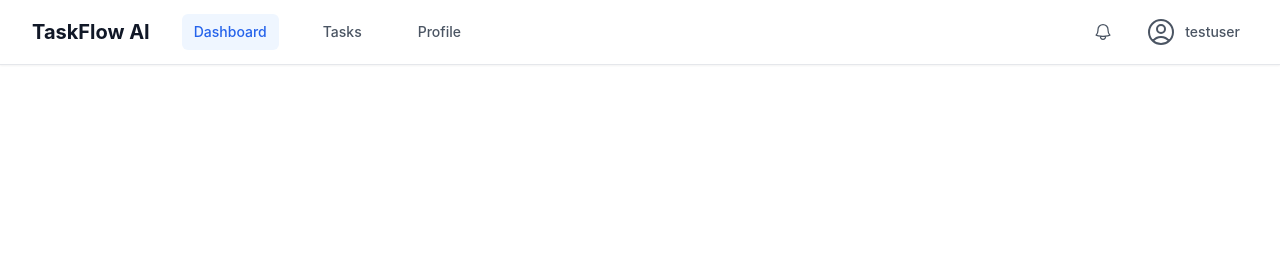
Test: Header Component › shows profile dropdown when user icon is clicked
What coordinates should you click on to do the following:
click the button "testuser"
I would click on:
 (1193, 32)
Its box is [1137,8,1248,56].
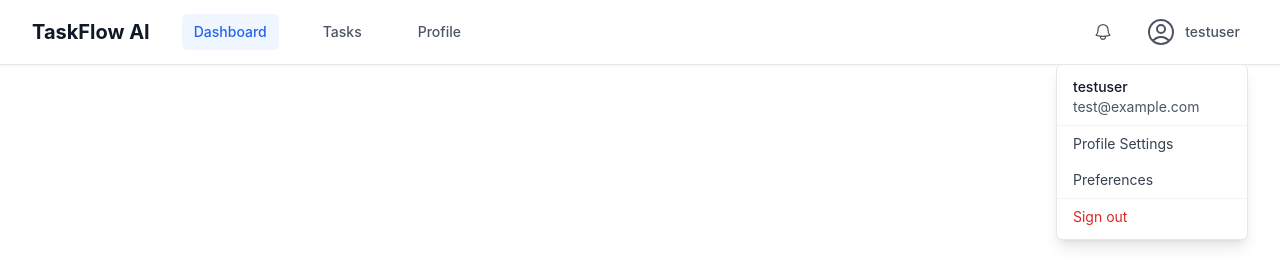
Expected: the button "Profile Settings" is shown, [1057,126,1247,162]
Expected: the button "Preferences" is shown, [1057,162,1247,198]
Expected: the button "Sign out" is shown, [1057,199,1247,235]
